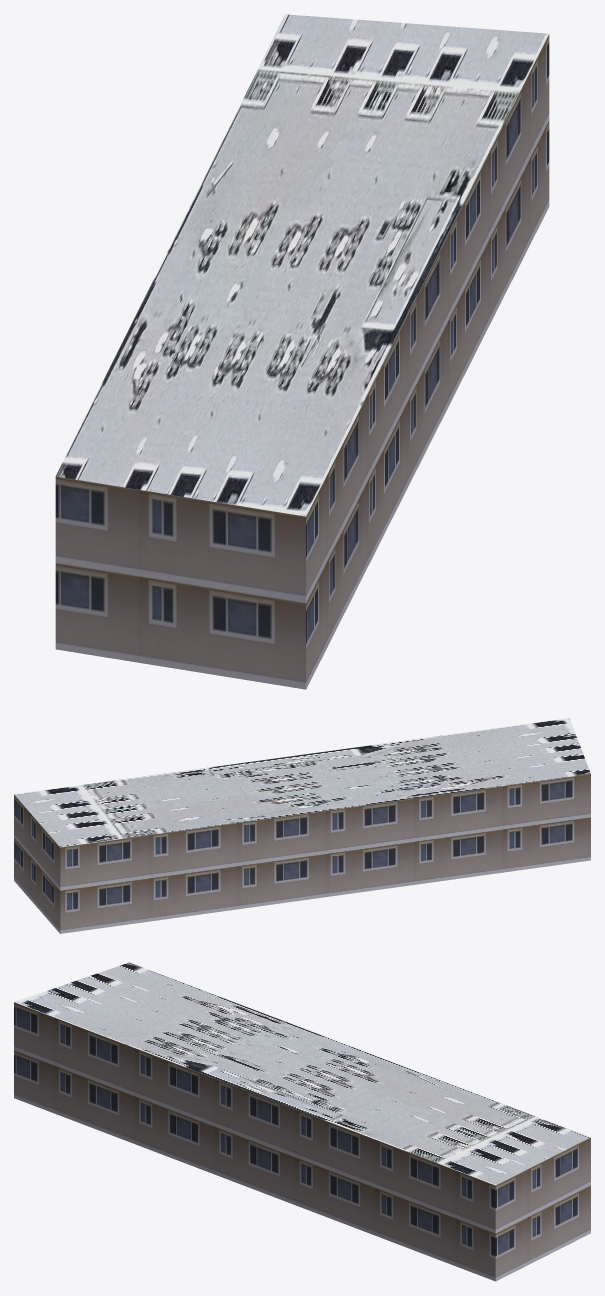
Rendered from ResTex__1312.fbx.
3 renders of one model, top to bottom at view 1: azimuth 30°, elevation 25°; view 2: azimuth 150°, elevation 25°; view 3: azimuth 270°, elevation 25°, orthographic. The views are drawn at different scales.
Visible parts, largest first — view 1: CityEngineMaterial_4_m, CityEngineMaterial_21_m; view 2: CityEngineMaterial_21_m, CityEngineMaterial_4_m; view 3: CityEngineMaterial_21_m, CityEngineMaterial_4_m.
Part boxes in pixels (<box>): CityEngineMaterial_4_m: <box>56,14,548,516</box>; CityEngineMaterial_21_m: <box>55,34,549,689</box>; CityEngineMaterial_21_m: <box>14,774,590,933</box>; CityEngineMaterial_4_m: <box>14,718,590,847</box>; CityEngineMaterial_21_m: <box>14,1002,590,1281</box>; CityEngineMaterial_4_m: <box>14,962,590,1185</box>.
Bounding box in the file's own units: 29.9 × 6 × 32.68.
Materials: 2 (2 with a texture image).
